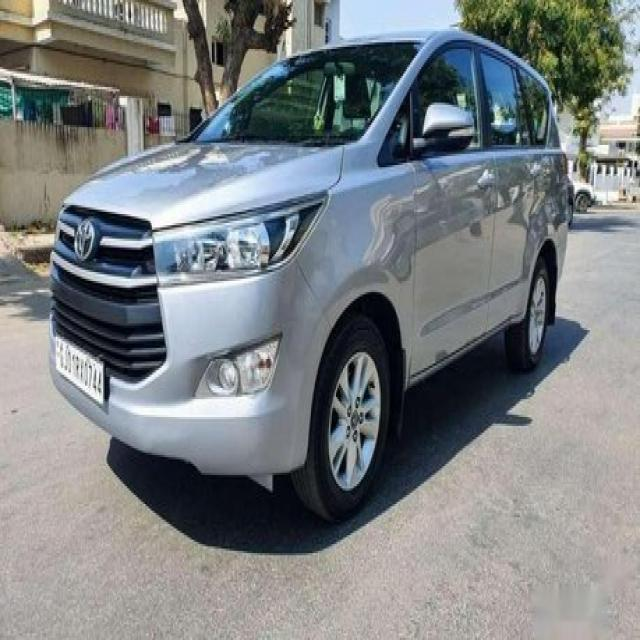light_vehicle: (47, 25, 575, 524)
